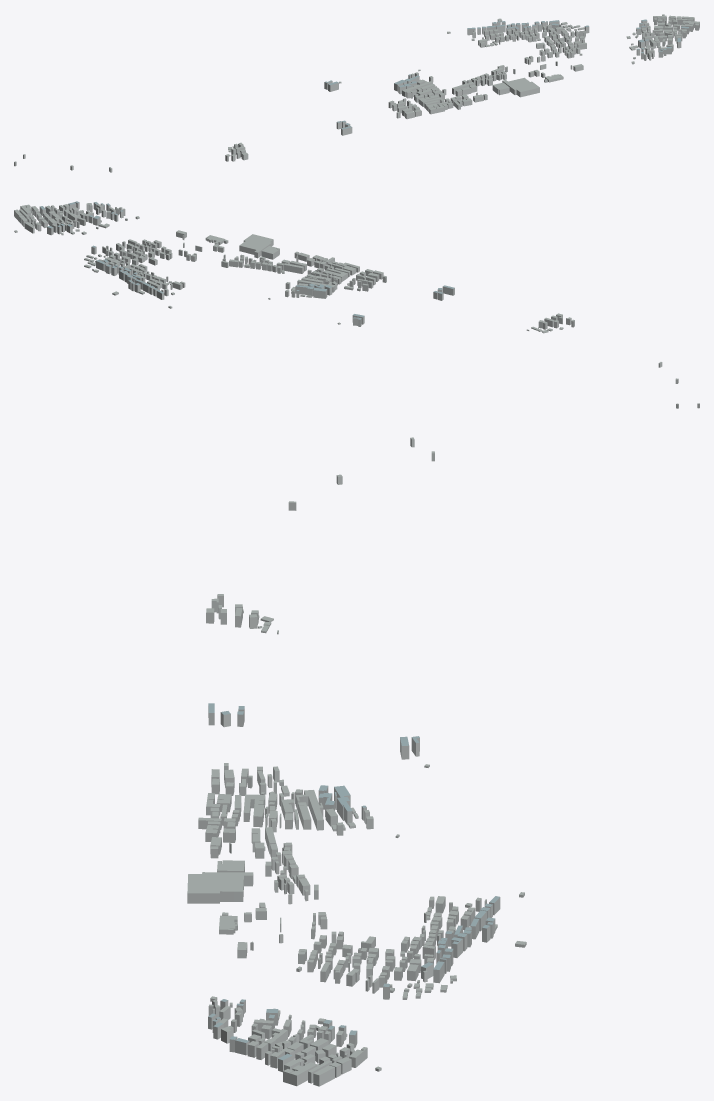
Rendered from far.glb.
3 views of the same model, one above another, from view 1: azimuth 30°, elevation 25°; view 2: azimuth 150°, elevation 25°; view 3: azimuth 270°, elevation 25° (orthographic). The views are drawn at different scales.
Size of the model in its own units: 2070 by 21.8 by 463.
